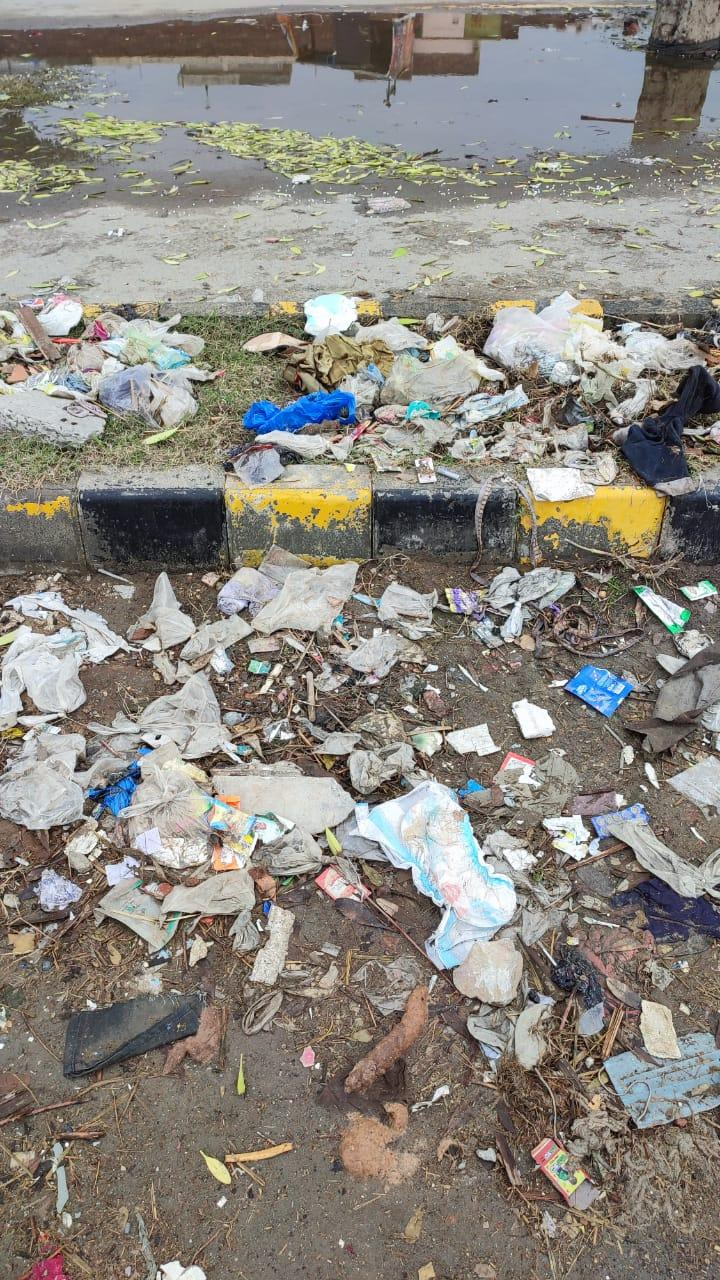garbage: (13, 568, 720, 1166), (6, 285, 720, 486)
